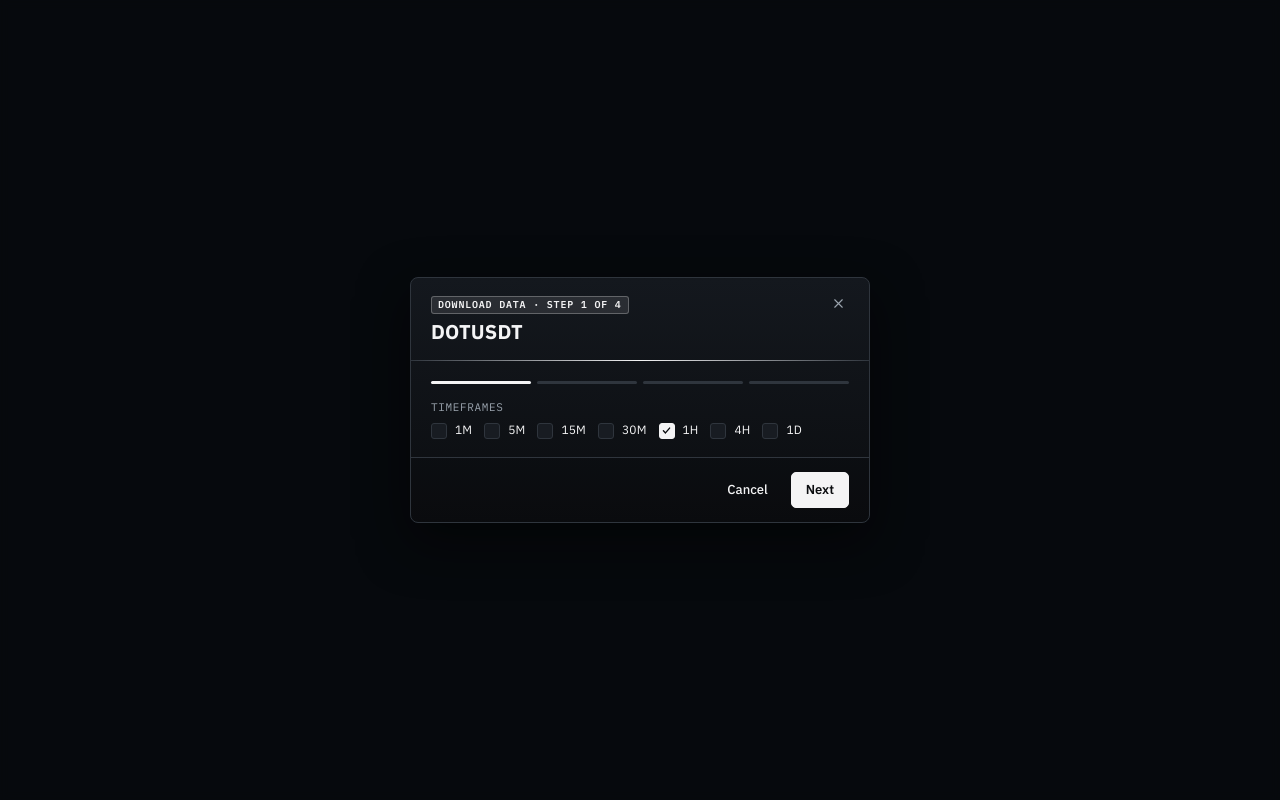
Test: Adversarial Stress Harness: Milestone 2 (Migrated Modals) › DownloadWizard: Multi-Step Interaction & Dismissal Invariants › renders progress percentage and indeterminate state during download
Later steps or results of the test are not shown.
Click the button "Next" at (820, 490), box top-left (791, 472), bottom-right (849, 508)
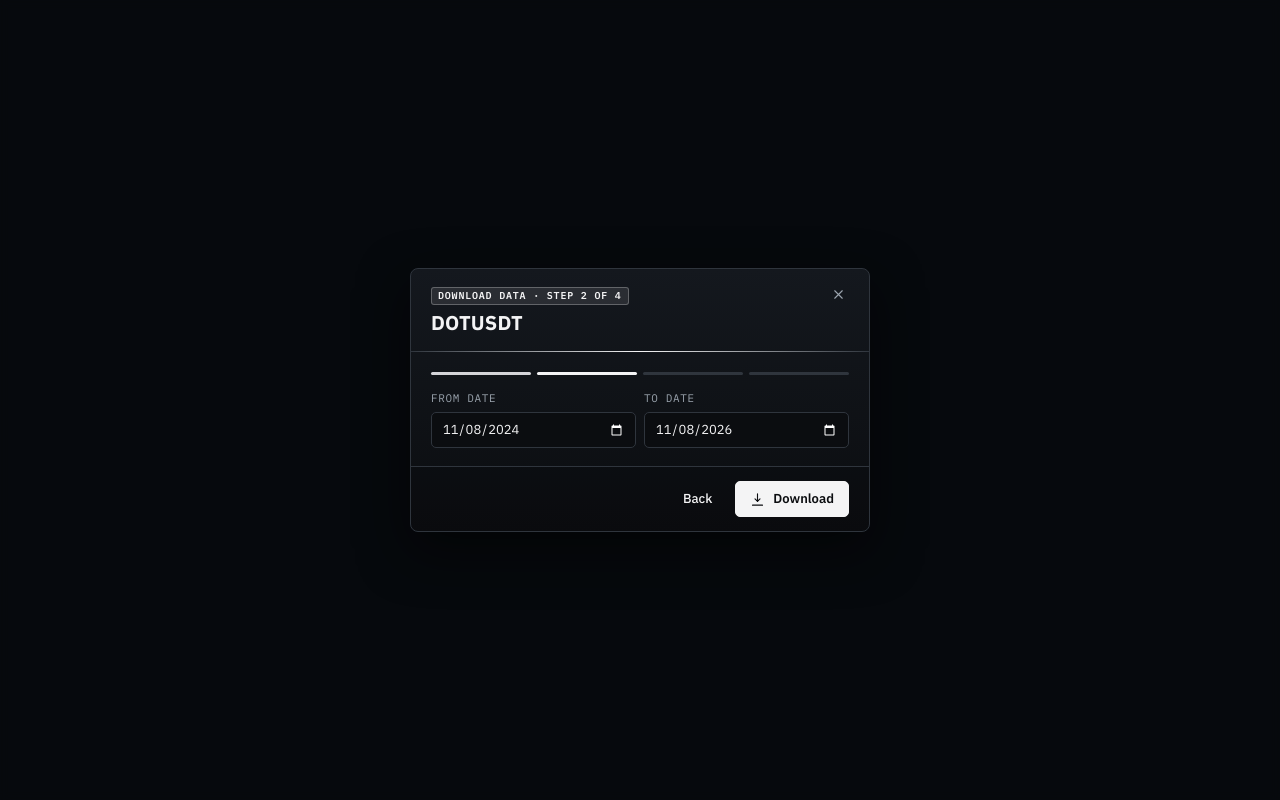
Click the button "Download" at (792, 499), box top-left (735, 481), bottom-right (849, 517)
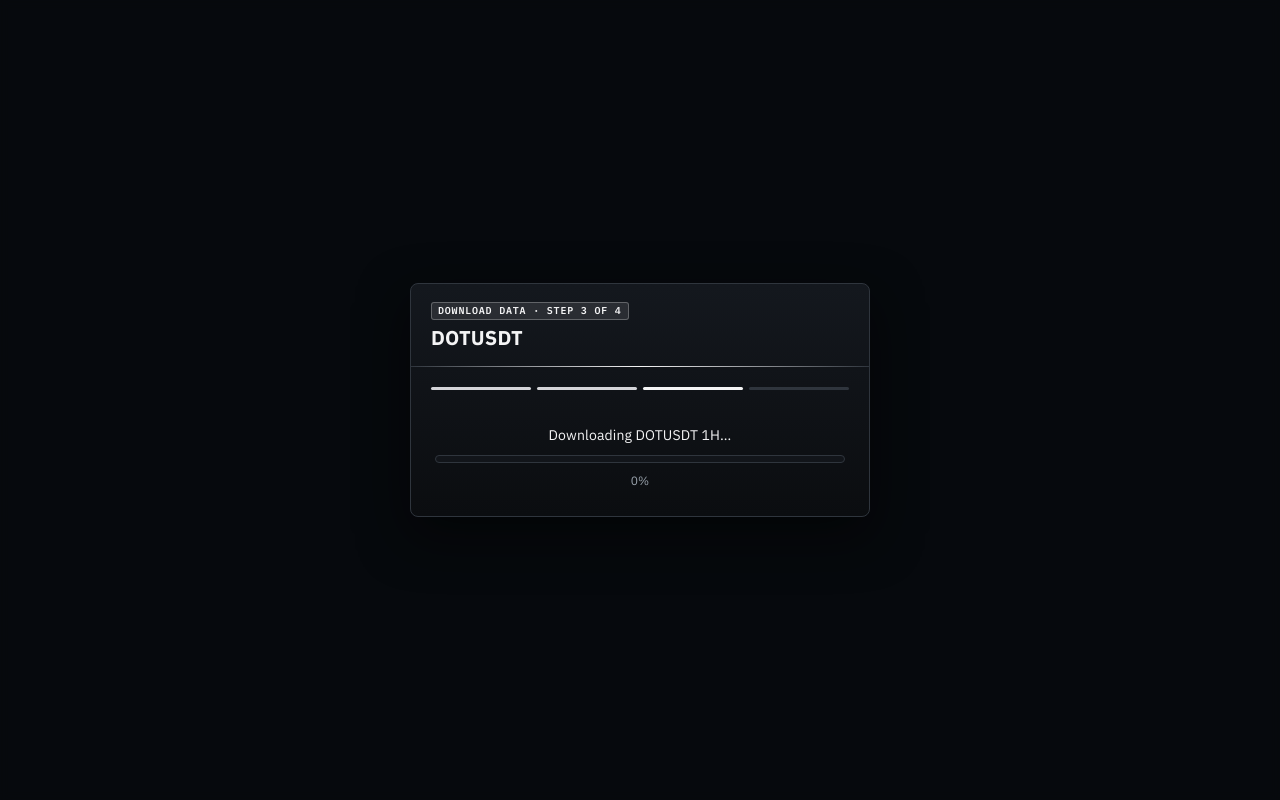
Expected: the text "Download data · Step 3 of 4" is shown, top-left (438, 306), bottom-right (622, 316)
